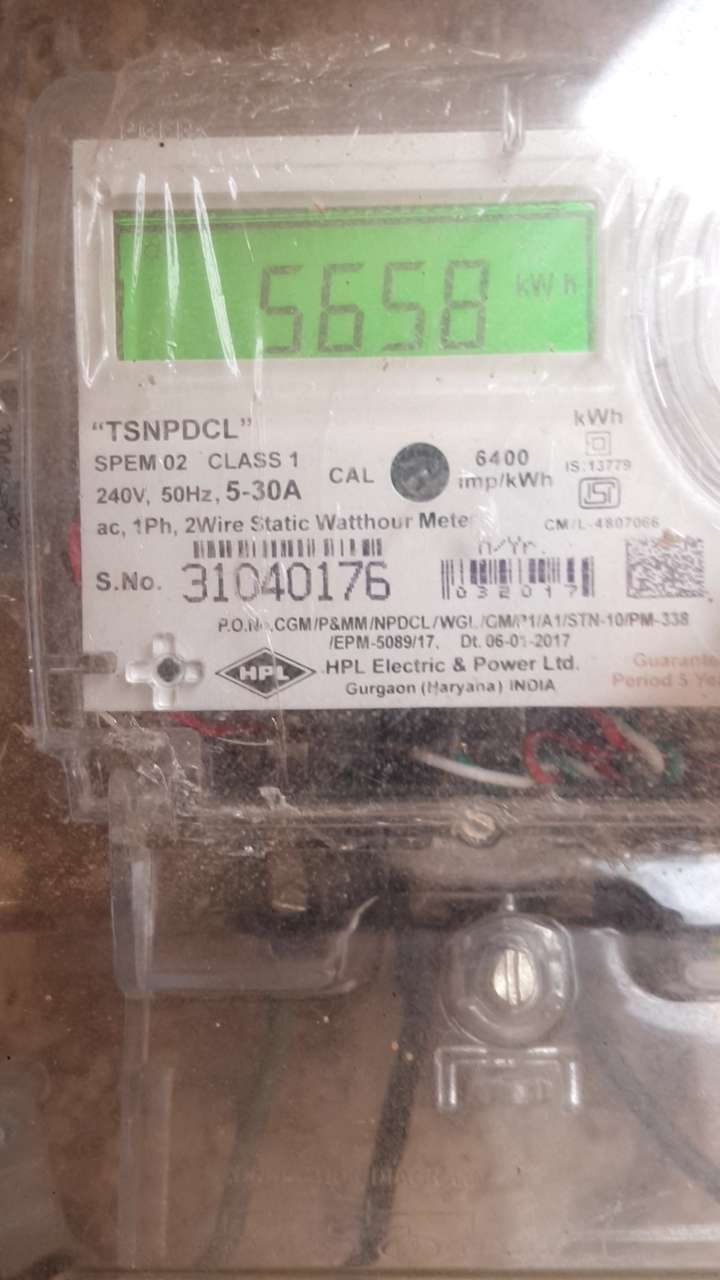meter_serial_number: (177, 558, 399, 604)
